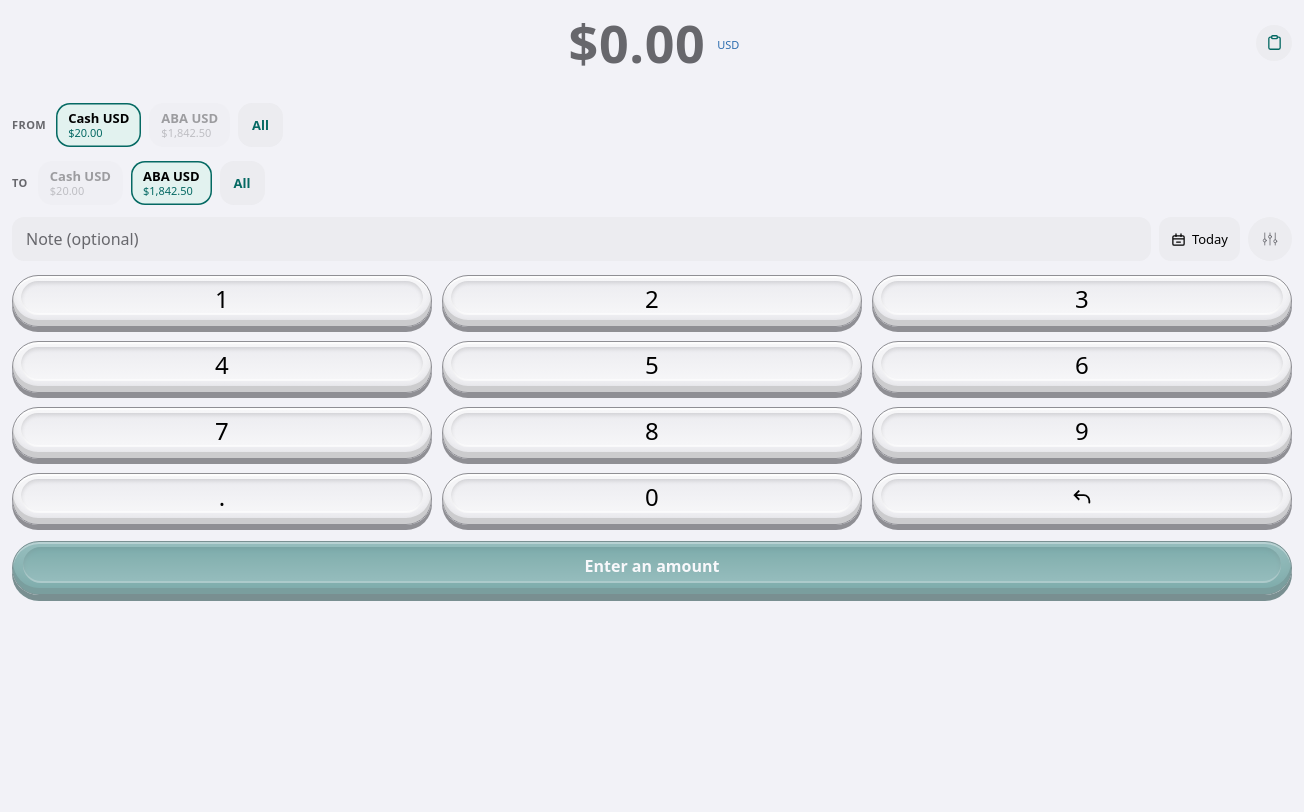
Test: warnings › warns when the source would go below zero
Click the button "5" at x=652, y=367, box x1=442 y1=341 x2=862 y2=393
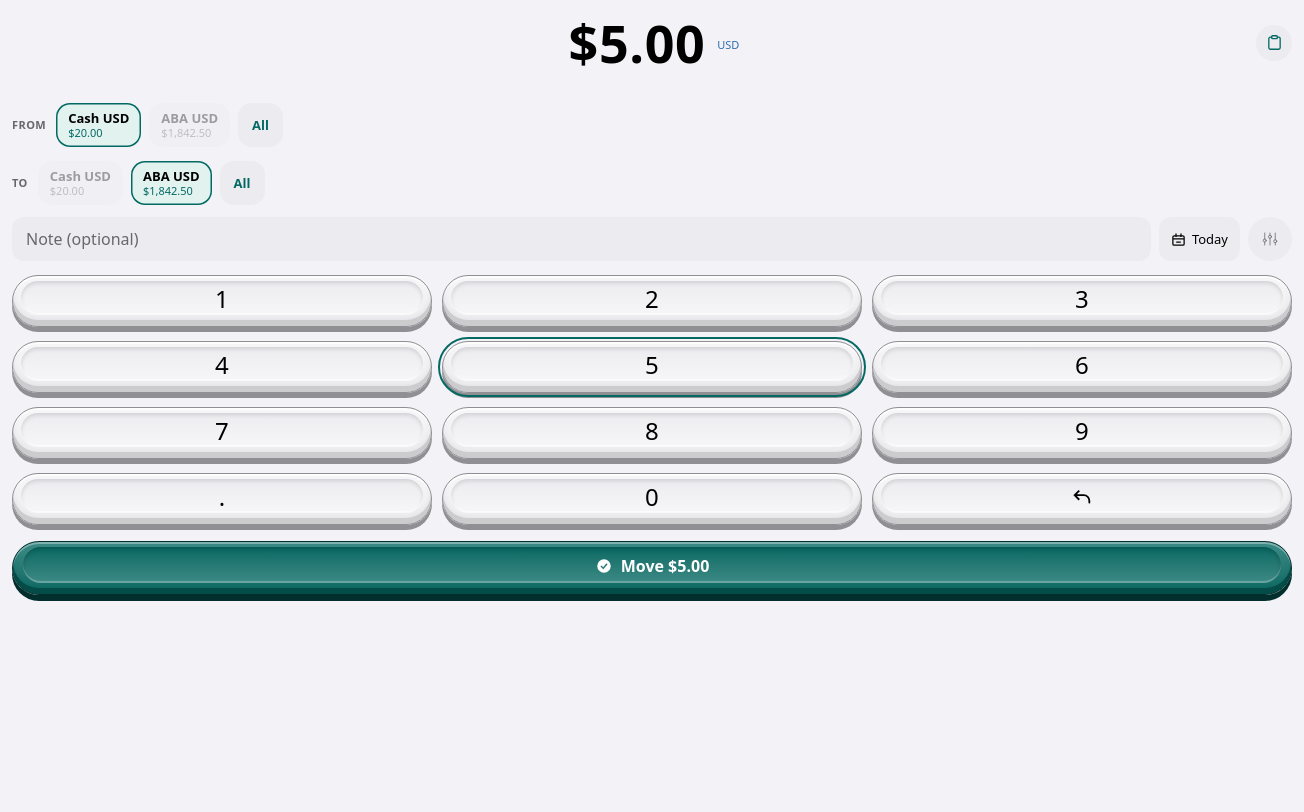
Click the button "0" at x=652, y=499, box x1=442 y1=473 x2=862 y2=525
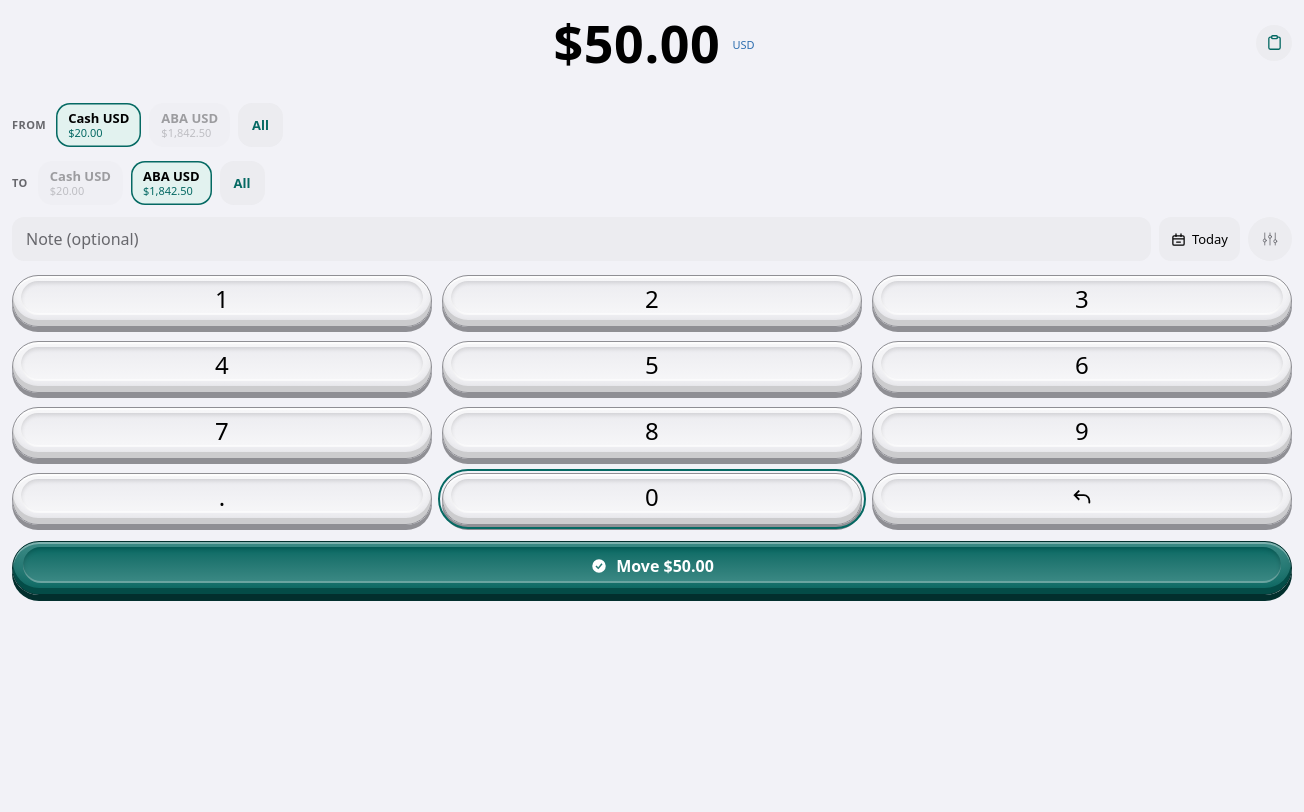
Click the button named "More options" at x=1270, y=239, box x1=1248 y1=217 x2=1292 y2=261
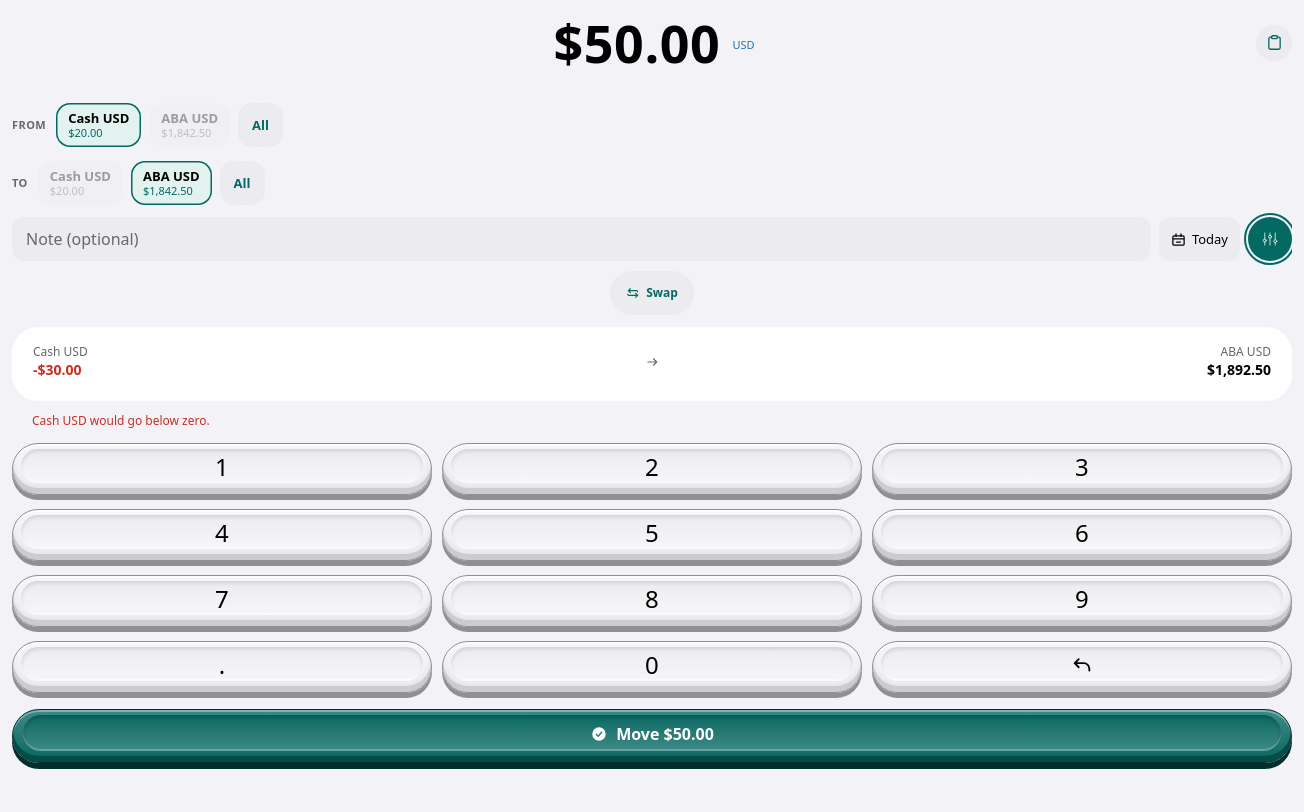
Check: the text "Cash USD would go below zero." is shown, box x1=12 y1=412 x2=210 y2=429
